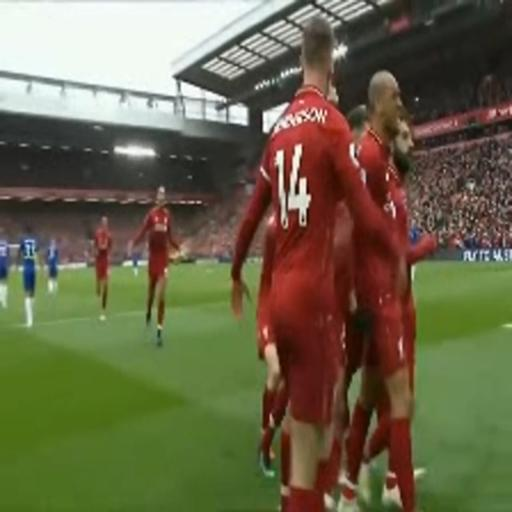nao-violencia: (224, 6, 462, 512)
